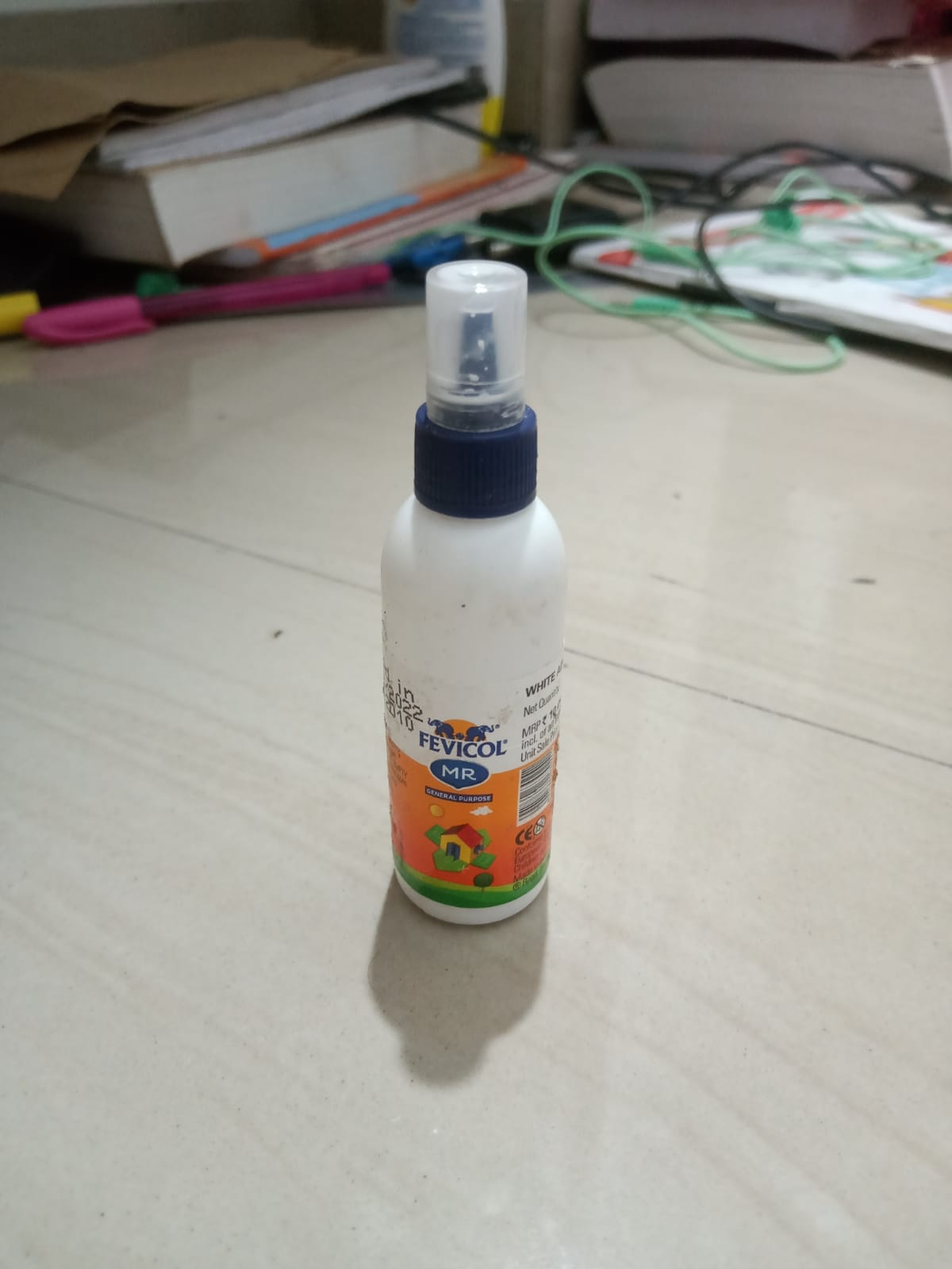plastic: (291, 252, 613, 954)
